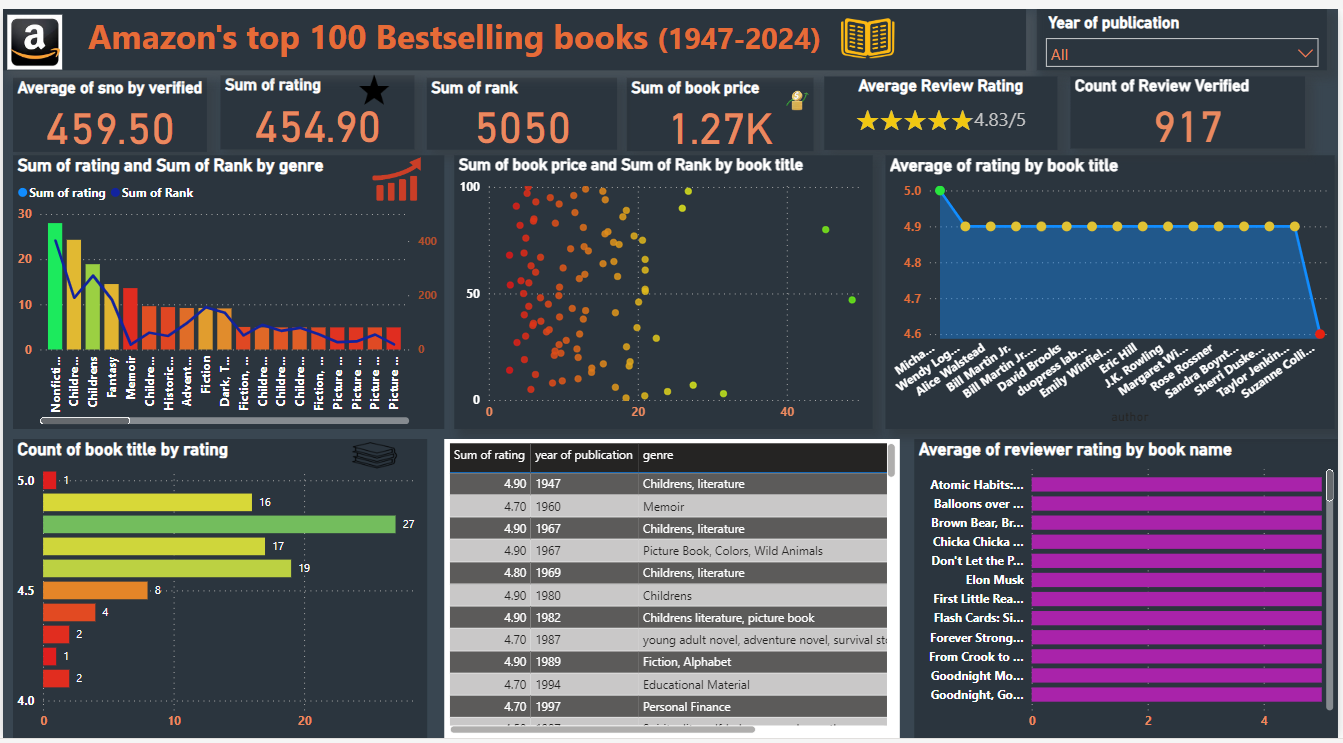

Layout of this report page (visuals, bound fields, positions):
{"tool":"powerbi","page":{"name":"Amazon Best Books","canvas":[1498,818],"ordinal":0},"visuals":[{"type":"slicer","title":"Count of review verified","fields":{"Values":["Data 2 Top-100 Trending Books.year of publication"]},"box":[1160.5,0,324.7,64.4],"z":0},{"type":"card","title":"Sum of book price","fields":{"Values":["Sum(Data 2 Top-100 Trending Books.book price)"]},"box":[700.2,76.7,209.6,82.2],"z":2000},{"type":"card","title":"Sum of rating","fields":{"Values":["Sum(Data 2 Top-100 Trending Books.rating)"]},"box":[243.9,74,217.9,83.6],"z":3000},{"type":"card","title":"Sum of rank","fields":{"Values":["Sum(Data 2 Top-100 Trending Books.Rank)"]},"box":[475.5,76.7,213.7,80.8],"z":4000},{"type":"card","title":"Average of sno by verified","fields":{"Values":["Avg(Data 1 customer reviews.Sno)"]},"box":[11,76.7,217.9,83.6],"z":5000},{"type":"textbox","box":[0,0,1148.2,68.5],"z":7000},{"type":"clusteredBarChart","fields":{"Category":["Data 1 customer reviews.book name"],"Y":["Avg(Data 1 customer reviews.reviewer rating)"]},"box":[1022.2,482.3,475.5,335.7],"z":8000},{"type":"ratingsvisual001","fields":{"measure":["Data 1 customer reviews.Average Review Rating"]},"box":[920.8,74,261.7,80.8],"z":9000},{"type":"lineStackedColumnComboChart","fields":{"Y":["Sum(Data 2 Top-100 Trending Books.rating)"],"Category":["Data 2 Top-100 Trending Books.genre"],"Y2":["Sum(Data 2 Top-100 Trending Books.Rank)"]},"box":[11,164.4,483.7,306.9],"z":11000},{"type":"scatterChart","fields":{"X":["Sum(Data 2 Top-100 Trending Books.book price)"],"Category":["Data 2 Top-100 Trending Books.book title"],"Y":["Sum(Data 2 Top-100 Trending Books.Rank)"]},"box":[507,164.4,470,306.9],"z":12000},{"type":"areaChart","title":"Average of rating by book title","fields":{"Category":["Data 2 Top-100 Trending Books.author"],"Y":["Avg(Data 2 Top-100 Trending Books.rating)"]},"box":[990.6,164.4,504.2,306.9],"z":13000},{"type":"clusteredBarChart","fields":{"Category":["Data 2 Top-100 Trending Books.rating"],"Y":["CountNonNull(Data 2 Top-100 Trending Books.book title)"]},"box":[11,482.3,464.5,335.7],"z":14000},{"type":"card","title":"Count of Review Verified","fields":{"Values":["Data 1 customer reviews.Review_verified"]},"box":[1205.8,79.5,265.8,80.8],"z":15000},{"type":"image","box":[0,0,71.2,74],"z":16000},{"type":"image","box":[874.2,74,35.6,54.8],"z":18000},{"type":"tableEx","fields":{"Values":["Sum(Data 2 Top-100 Trending Books.rating)","Data 2 Top-100 Trending Books.year of publication","Data 2 Top-100 Trending Books.genre"]},"box":[494.6,482.3,511.1,335.7],"z":21000},{"type":"image","box":[409.7,160.3,64.4,61.7],"z":24000},{"type":"image","box":[935.8,5.5,69.9,54.8],"z":25000},{"type":"image","box":[391.9,64.4,50.7,52.1],"z":26000},{"type":"image","box":[385,459,64.4,85],"z":27000}]}

Visuals, with their boxes in screenshot pixels (x1, y1, x2, y2), scaled from the page's 1498x818 canvas onto the 1343x743 screenshot:
"Count of review verified" slicer: box=[1040, 0, 1332, 58]
"Sum of book price" card: box=[628, 70, 816, 144]
"Sum of rating" card: box=[219, 67, 414, 143]
"Sum of rank" card: box=[426, 70, 618, 143]
"Average of sno by verified" card: box=[10, 70, 205, 146]
textbox: box=[0, 0, 1029, 62]
clusteredBarChart - Data 1 customer reviews.book name x Avg(Data 1 customer reviews.reviewer rating): box=[916, 438, 1342, 742]
ratingsvisual001 - Data 1 customer reviews.Average Review Rating: box=[826, 67, 1060, 141]
lineStackedColumnComboChart - Sum(Data 2 Top-100 Trending Books.rating) x Data 2 Top-100 Trending Books.genre: box=[10, 149, 444, 428]
scatterChart - Sum(Data 2 Top-100 Trending Books.book price) x Data 2 Top-100 Trending Books.book title: box=[455, 149, 876, 428]
"Average of rating by book title" areaChart: box=[888, 149, 1340, 428]
clusteredBarChart - Data 2 Top-100 Trending Books.rating x CountNonNull(Data 2 Top-100 Trending Books.book title): box=[10, 438, 426, 742]
"Count of Review Verified" card: box=[1081, 72, 1319, 146]
image: box=[0, 0, 64, 67]
image: box=[784, 67, 816, 117]
tableEx - Sum(Data 2 Top-100 Trending Books.rating) x Data 2 Top-100 Trending Books.year of publication: box=[443, 438, 902, 742]
image: box=[367, 146, 425, 202]
image: box=[839, 5, 902, 55]
image: box=[351, 58, 397, 106]
image: box=[345, 417, 403, 494]
